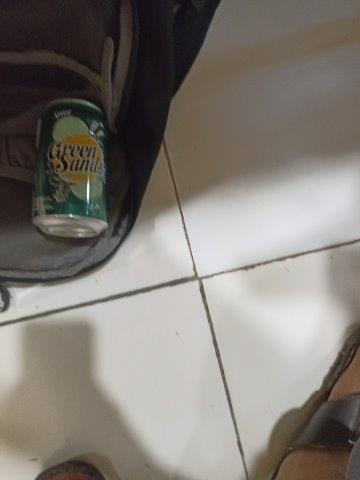kaleng: (31, 98, 108, 238)
